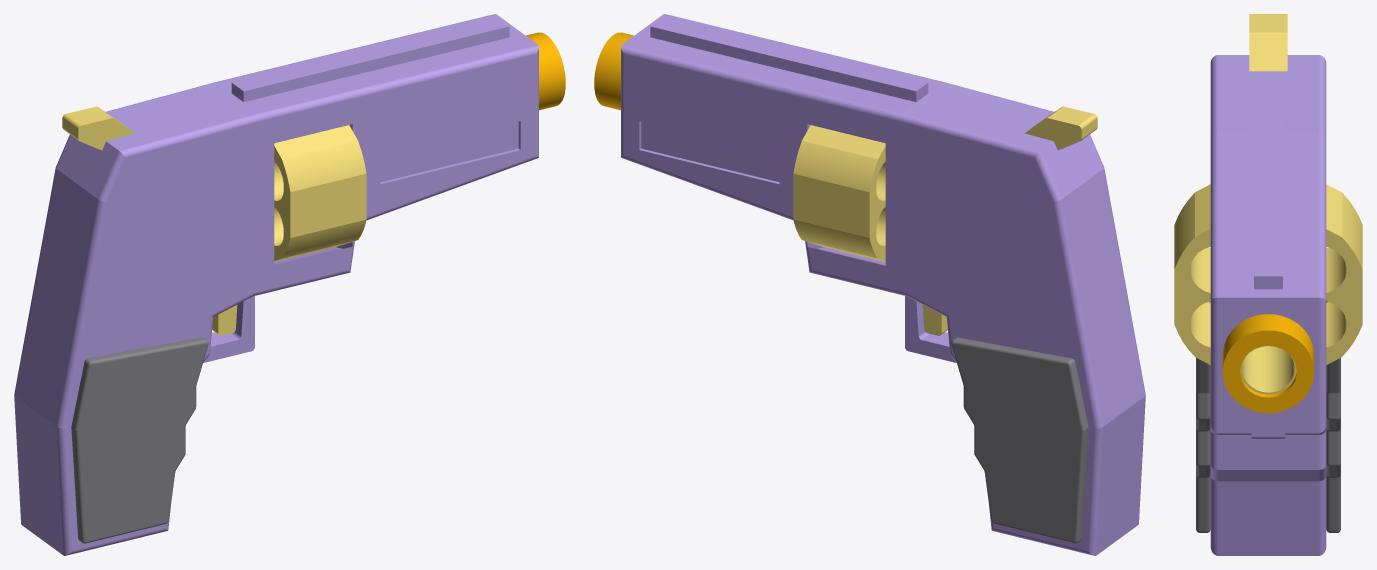
The picture shows the model from 3 angles, left to right: view 1: azimuth 30°, elevation 25°; view 2: azimuth 150°, elevation 25°; view 3: azimuth 270°, elevation 25°; orthographic projection. The views are drawn at different scales.
Visible parts, largest first — view 1: telaio, =>[0:1:1:11], =>[0:1:1:3], =>[0:1:1:15], =>[0:1:1:19], =>[0:1:1:13]; view 2: telaio, =>[0:1:1:8], =>[0:1:1:3], =>[0:1:1:15], =>[0:1:1:19], =>[0:1:1:13]; view 3: telaio, =>[0:1:1:3], =>[0:1:1:19], =>[0:1:1:8], =>[0:1:1:11], =>[0:1:1:15], =>[0:1:1:5].
Boxes of the visible parts, left/top/right/bottom form: telaio: left=14, top=14, right=538, bottom=555; =>[0:1:1:11]: left=71, top=337, right=208, bottom=543; =>[0:1:1:3]: left=274, top=125, right=366, bottom=261; =>[0:1:1:15]: left=62, top=106, right=135, bottom=150; =>[0:1:1:19]: left=526, top=32, right=565, bottom=110; =>[0:1:1:13]: left=203, top=296, right=254, bottom=362; telaio: left=621, top=14, right=1145, bottom=555; =>[0:1:1:8]: left=951, top=337, right=1088, bottom=543; =>[0:1:1:3]: left=793, top=125, right=885, bottom=261; =>[0:1:1:15]: left=1024, top=106, right=1097, bottom=150; =>[0:1:1:19]: left=594, top=32, right=633, bottom=110; =>[0:1:1:13]: left=905, top=296, right=956, bottom=362; telaio: left=1210, top=55, right=1326, bottom=555; =>[0:1:1:3]: left=1174, top=184, right=1362, bottom=364; =>[0:1:1:19]: left=1222, top=314, right=1314, bottom=413; =>[0:1:1:8]: left=1326, top=301, right=1340, bottom=532; =>[0:1:1:11]: left=1196, top=301, right=1210, bottom=532; =>[0:1:1:15]: left=1249, top=14, right=1287, bottom=71; =>[0:1:1:5]: left=1240, top=346, right=1296, bottom=394.
Size of the model in its own units: 148 by 114 by 38.95.
